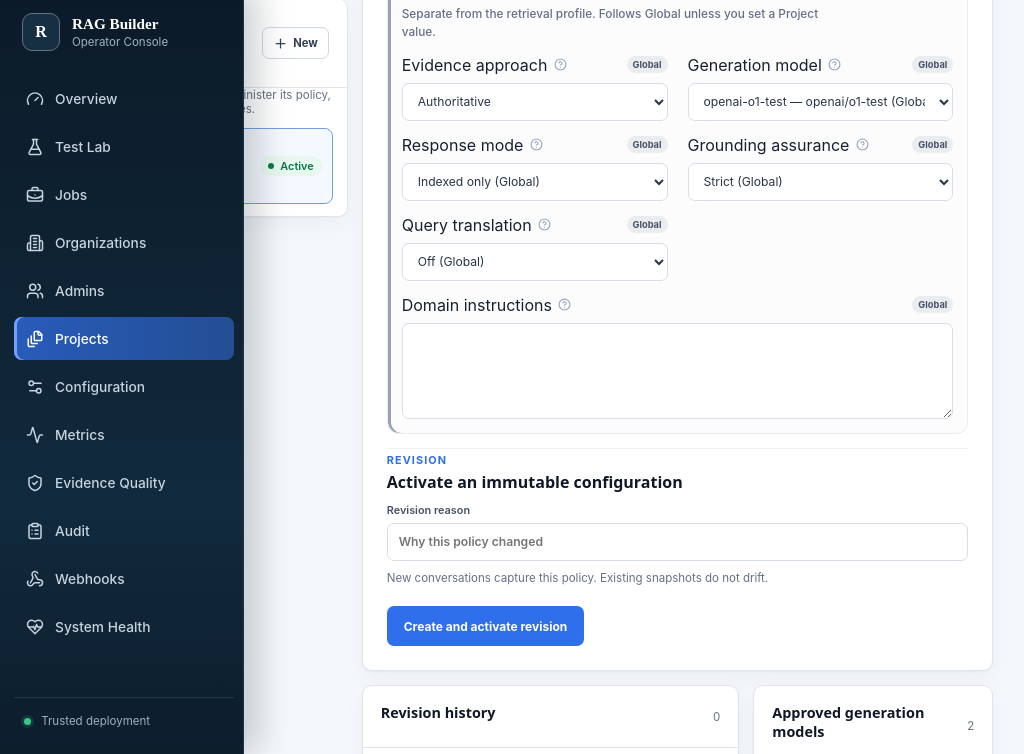
Scenario: clearing domain instructions back to Global restores Global source
(page scrolled)
Type "Tax audit focus" into the text box named "Domain instructions" at [678, 371], box [402, 323, 953, 419]
(page scrolled)
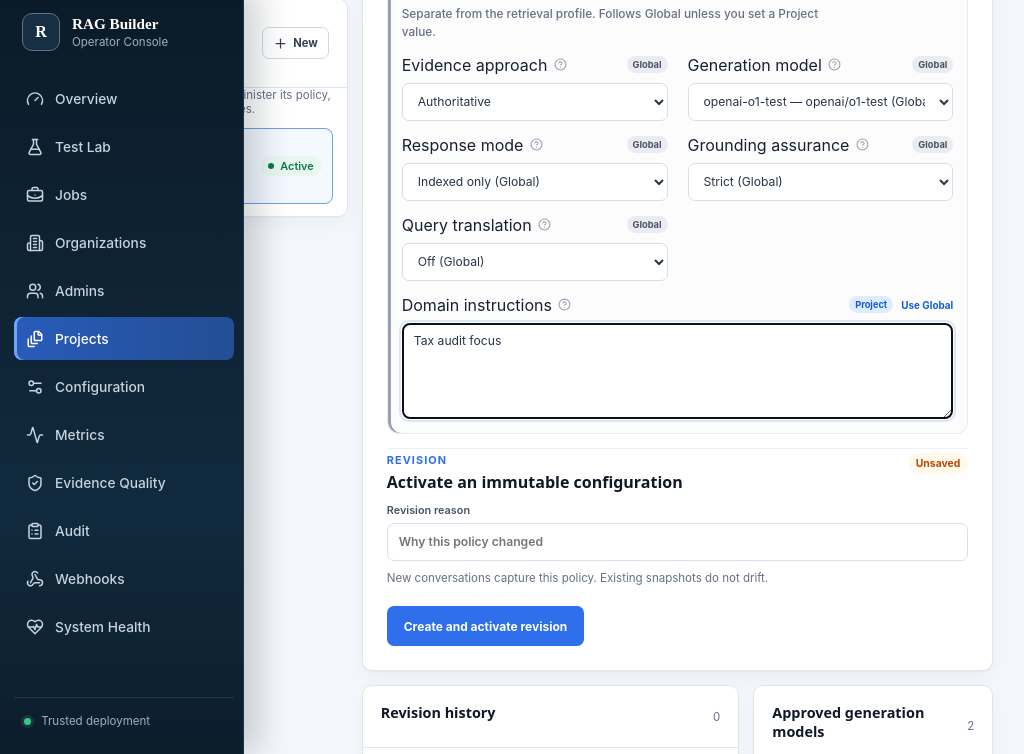
Expected: the button with aria-label "Domain instructions: Use Global" is shown, [901, 299, 953, 311]
Clear the text box named "Domain instructions" at [678, 371], box [402, 323, 953, 419]
(page scrolled)
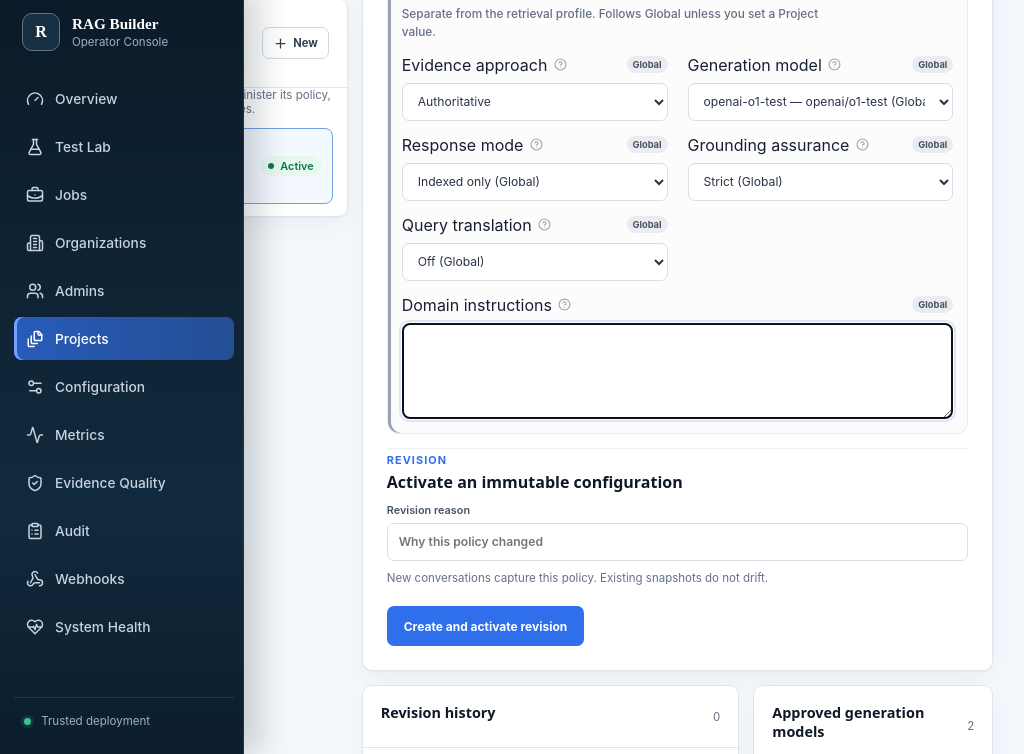
Expected: the text "Unsaved" is gone
